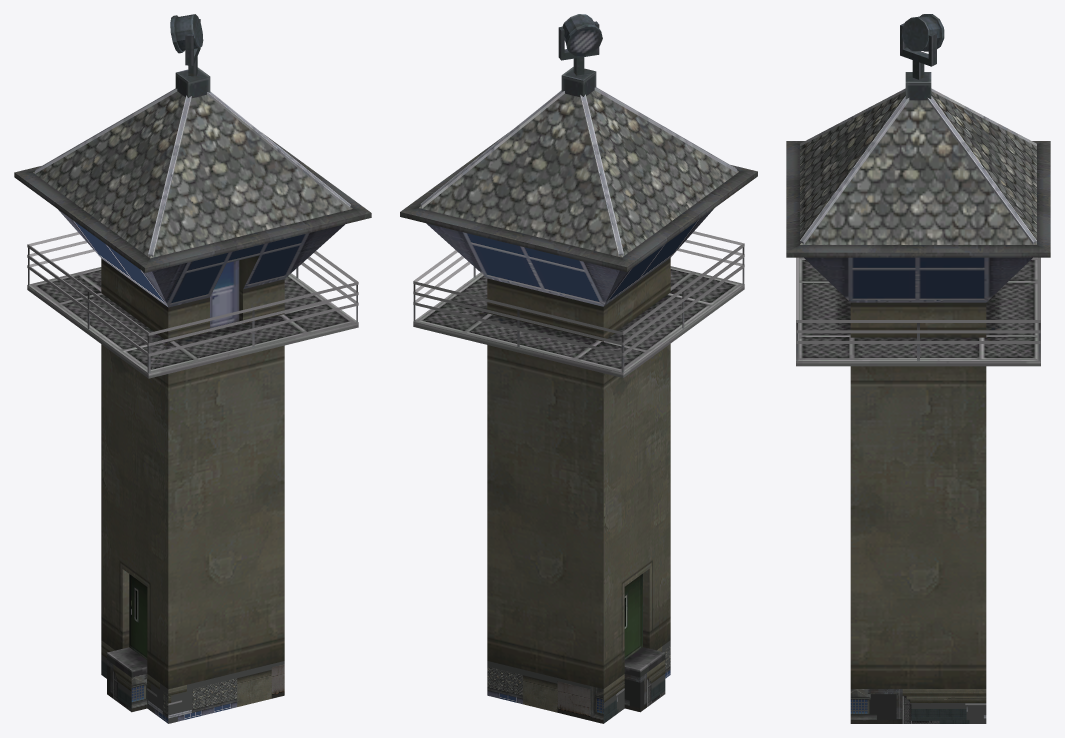
File: WatchTower.fbx
3 views of the same model, side by side, from view 1: azimuth 30°, elevation 25°; view 2: azimuth 150°, elevation 25°; view 3: azimuth 270°, elevation 25° (orthographic).
Parts seen in each view (by area): view 1: Prison.001; view 2: Prison.001; view 3: Prison.001.
Part boxes in pixels (box(x1,y1,x2,y2)): Prison.001: box(14, 14, 371, 723); Prison.001: box(400, 14, 757, 723); Prison.001: box(786, 14, 1050, 723).
Bounding box in the file's own units: 683 × 1930 × 683.
